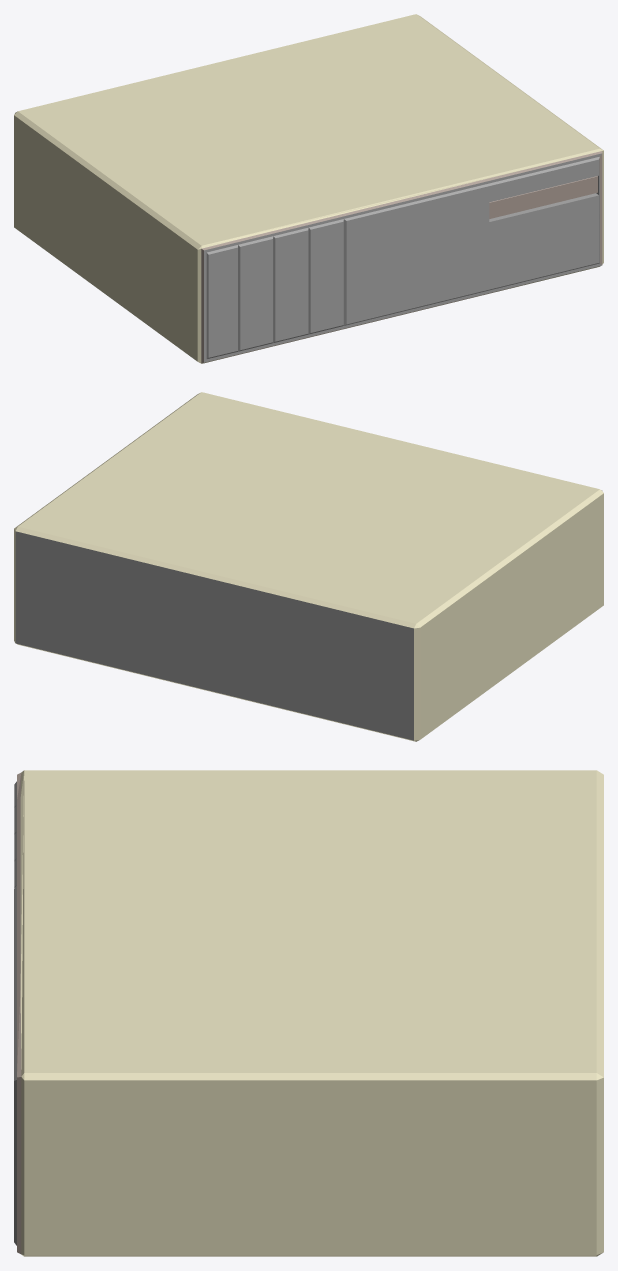
File: Cpu.fbx
3 renders of one model, top to bottom at view 1: azimuth 30°, elevation 25°; view 2: azimuth 150°, elevation 25°; view 3: azimuth 270°, elevation 25°, orthographic. The views are drawn at different scales.
Parts seen in each view (by area): view 1: Cpu; view 2: Cpu; view 3: Cpu.
Part boxes in pixels (box(x1,y1,x2,y2)): Cpu: box(14, 14, 603, 363); Cpu: box(14, 392, 603, 741); Cpu: box(14, 770, 603, 1256).
Bounding box in the file's own units: 0.018 × 0.005 × 0.0145.
